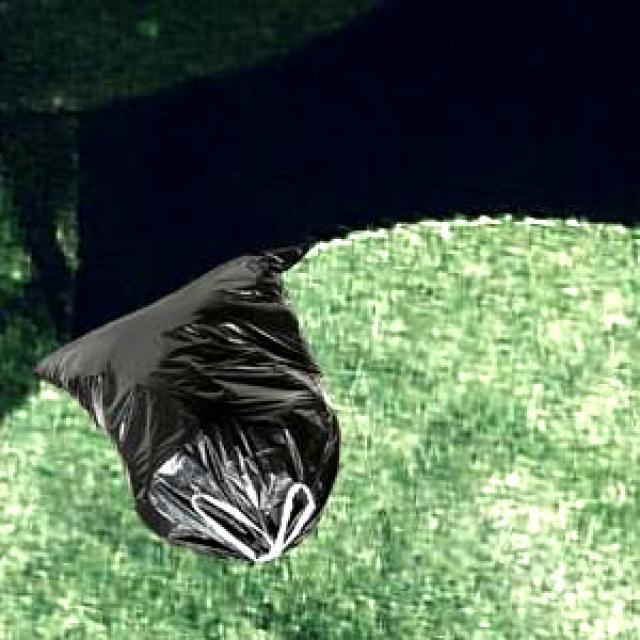Garbage_Bag: (29, 240, 336, 562)
